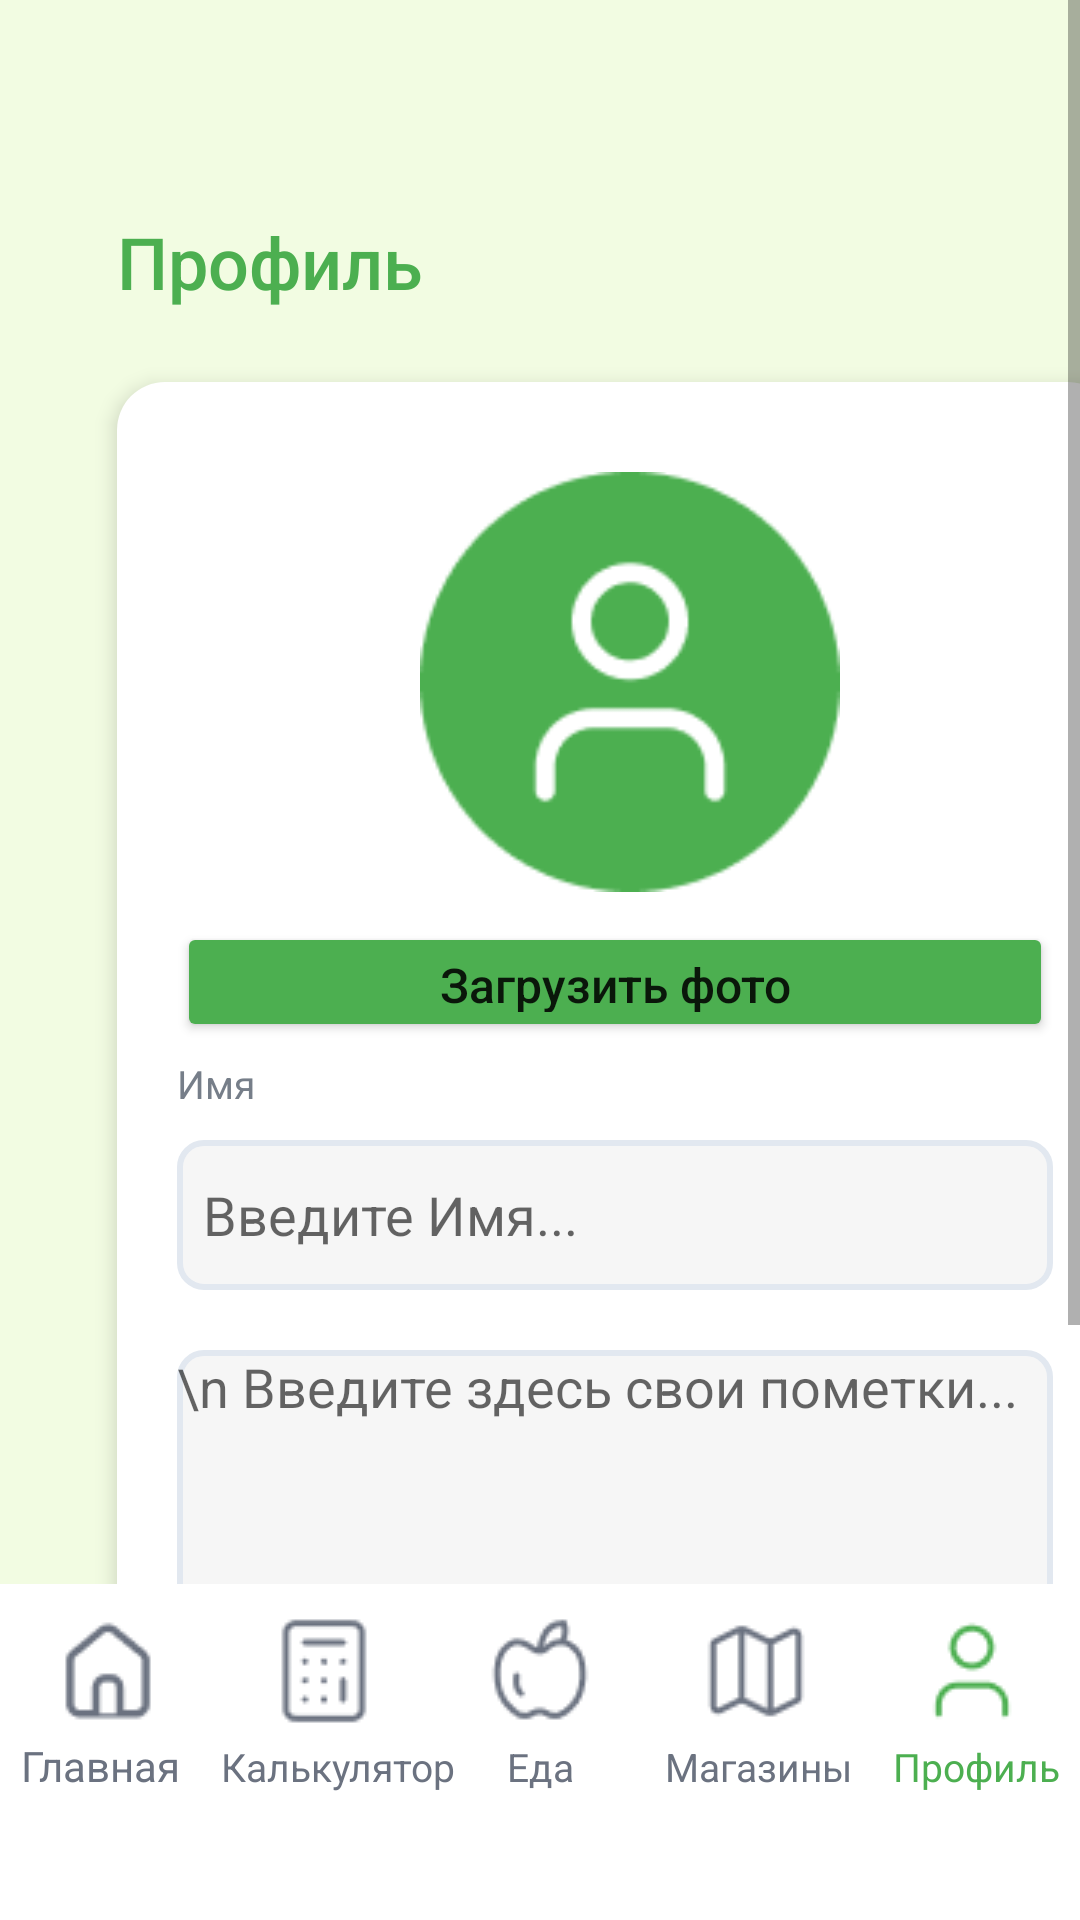

Locate icon controls on the screen. Image size 1080w x 1920h, boxes as (x1, y1, x2, y2).
apple: (492, 1619, 588, 1720)
map: (708, 1625, 804, 1717)
